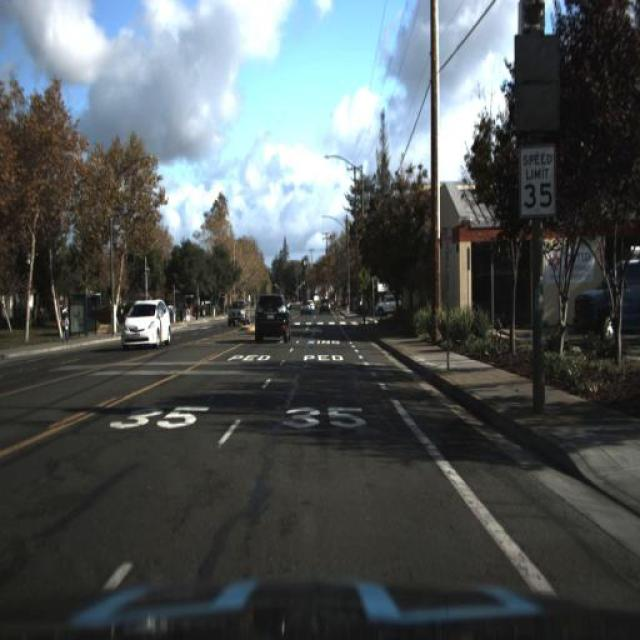car: (248, 281, 301, 353), (122, 296, 169, 350), (254, 290, 292, 342), (225, 299, 250, 330), (314, 292, 332, 317), (296, 296, 312, 316)
